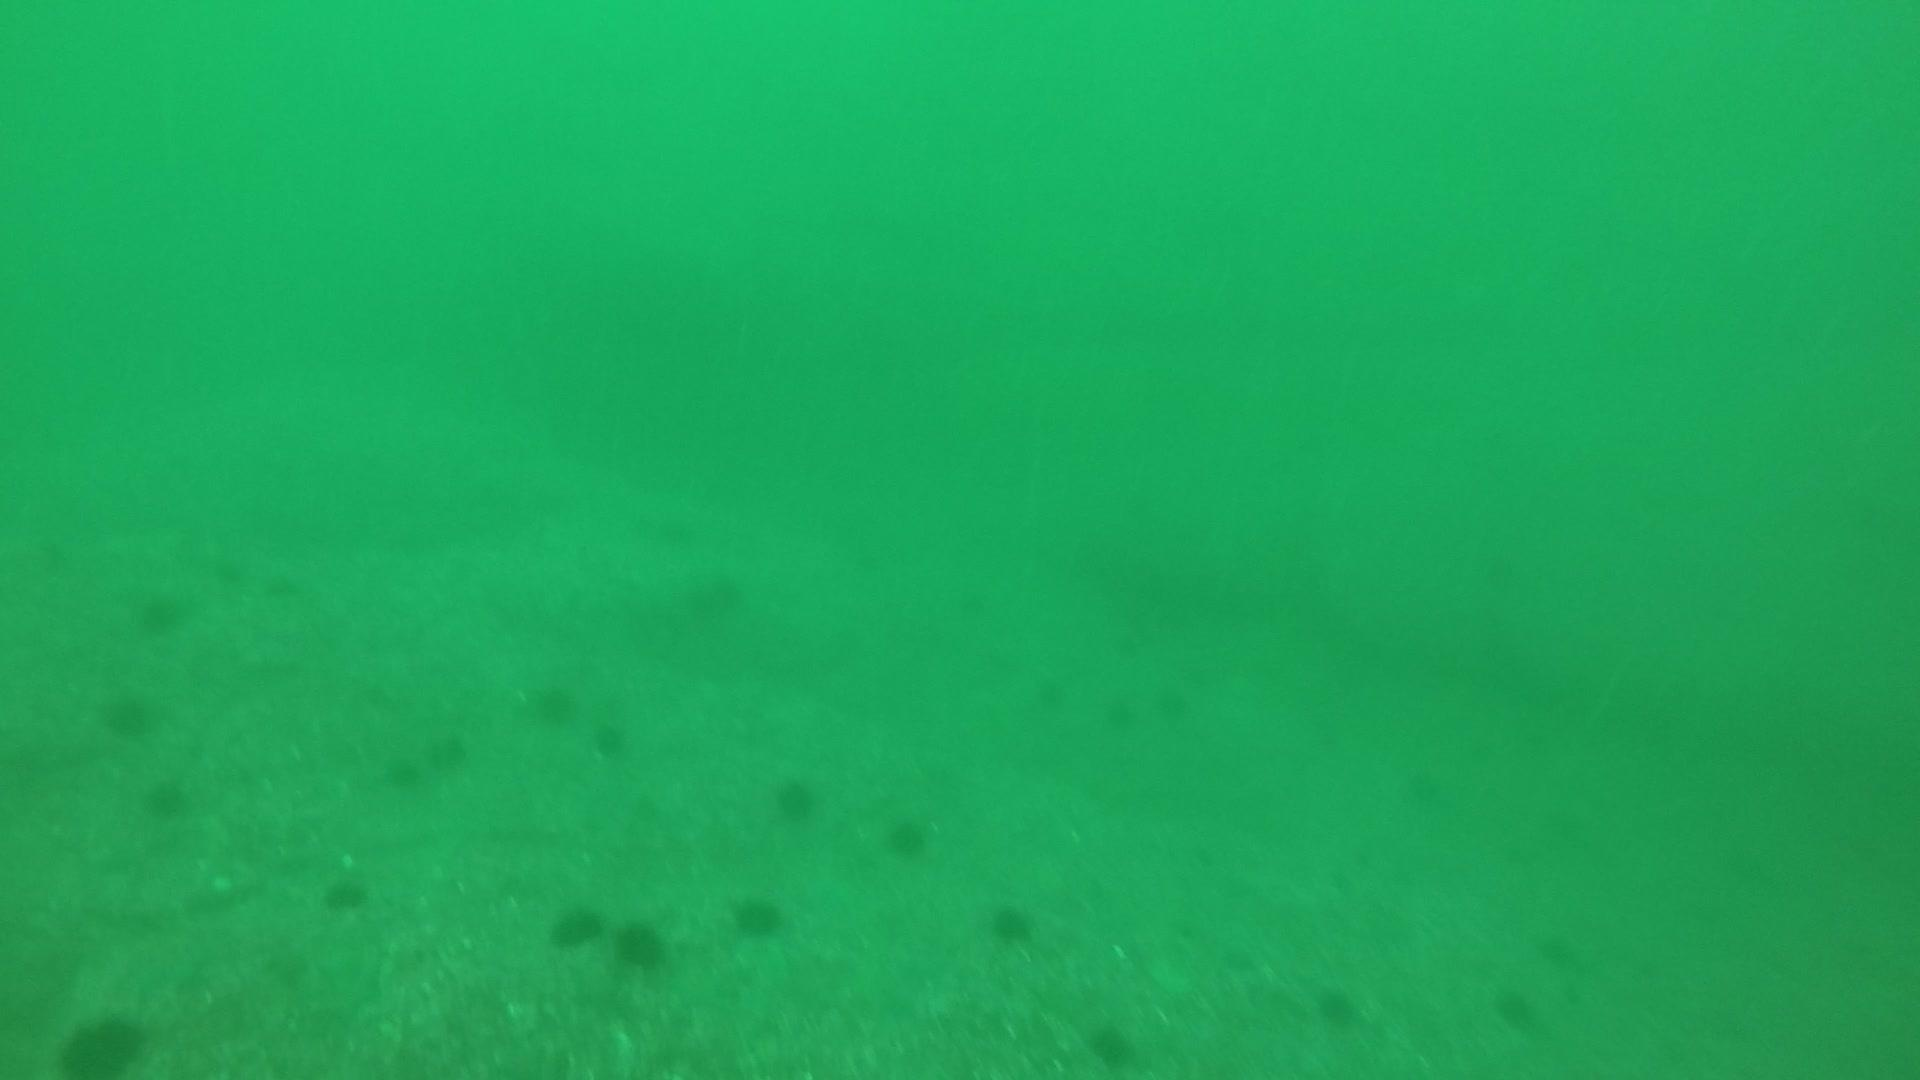echinus: (55, 1007, 152, 1076), (678, 567, 742, 625), (611, 915, 670, 973), (98, 687, 160, 741), (729, 889, 789, 942), (546, 899, 605, 952), (131, 584, 189, 637), (525, 675, 580, 728), (769, 771, 822, 824), (1085, 1019, 1138, 1071), (985, 897, 1038, 947), (140, 774, 193, 823), (319, 869, 373, 916), (884, 811, 934, 861), (1313, 982, 1364, 1033), (1491, 982, 1540, 1033), (425, 728, 471, 778), (589, 716, 632, 762), (382, 750, 426, 793), (1100, 690, 1139, 735), (1154, 688, 1199, 727), (1029, 680, 1073, 717), (1542, 932, 1581, 973), (1403, 770, 1441, 804)
